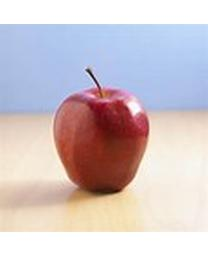apple: (50, 66, 149, 193)
